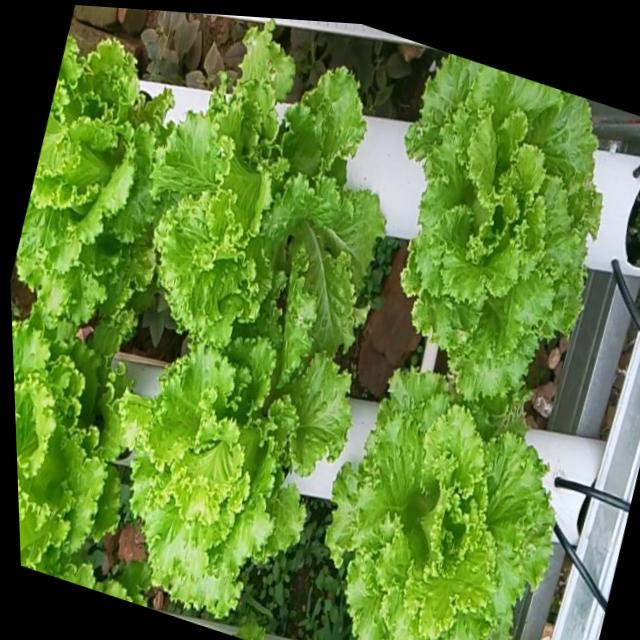Mature: (149, 29, 382, 361), (115, 314, 347, 624), (399, 54, 599, 407), (323, 371, 552, 640), (11, 40, 168, 332), (12, 308, 124, 576)
